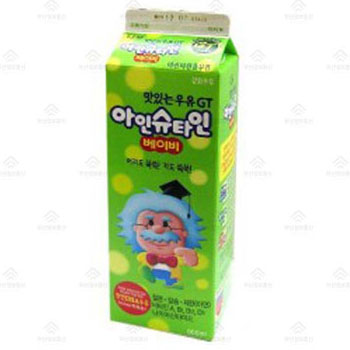milk: (105, 9, 237, 342)
